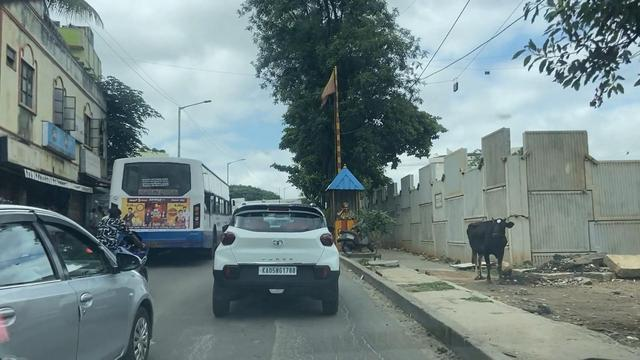HMV: (112, 160, 207, 255)
LMV: (223, 203, 325, 321)
